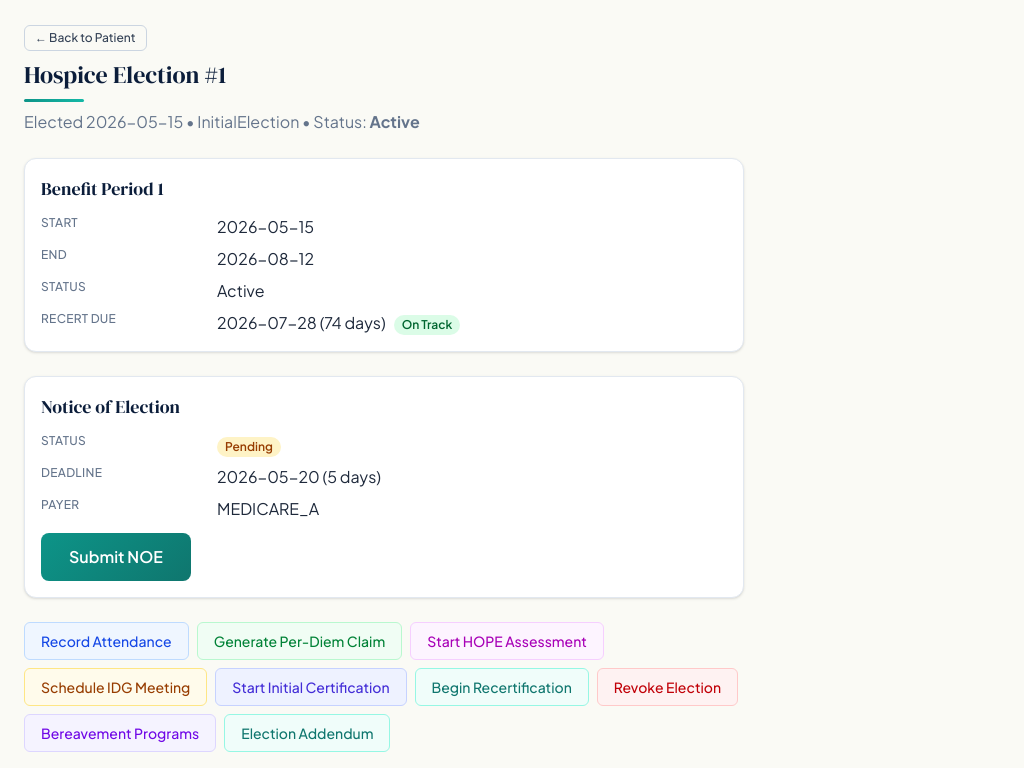
Scenario: HospiceElectionDetail › enables Confirm Submission when the user has hospice:manage and a mode is selected
Click the button "Submit NOE" at (116, 557), box left=41, top=533, right=191, bottom=581
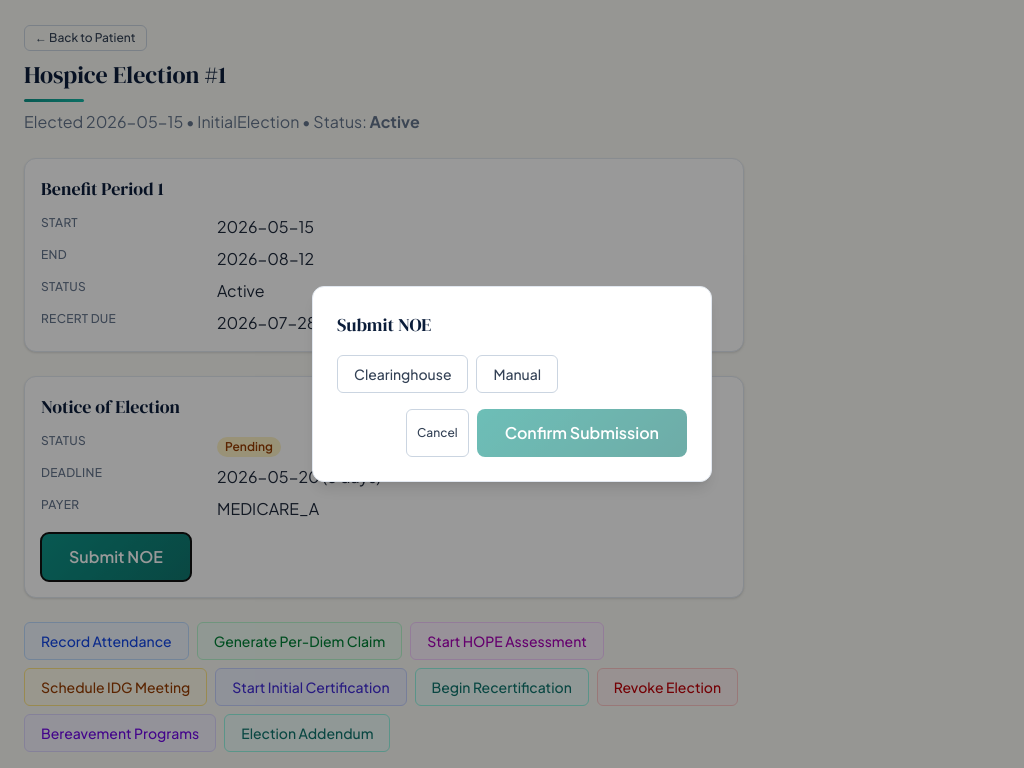
Click the button "Clearinghouse" at (403, 374), box left=337, top=355, right=468, bottom=393
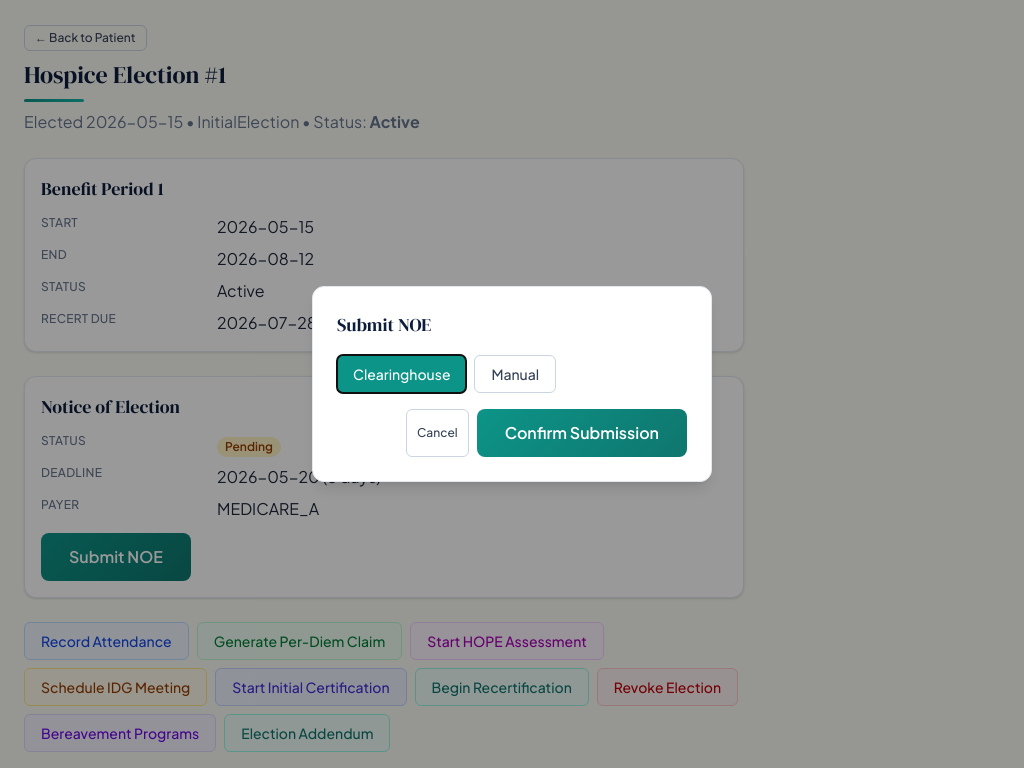
Result: the button "Confirm Submission" is enabled at left=477, top=409, right=687, bottom=457
